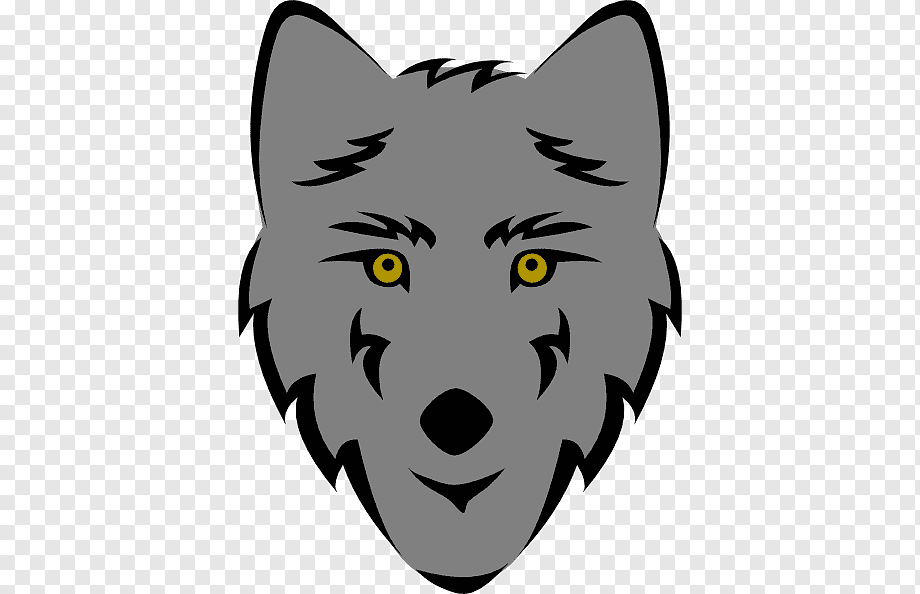Lobo: (239, 13, 720, 589)
